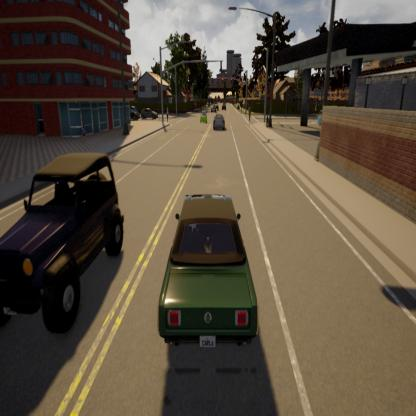Cars: (0, 128, 131, 350), (154, 150, 264, 394), (142, 98, 164, 127), (212, 107, 227, 138), (195, 106, 211, 135), (128, 96, 140, 124), (209, 93, 217, 112), (221, 94, 227, 115)
Pedestrian: (76, 118, 90, 142), (165, 100, 171, 126), (265, 112, 272, 134), (248, 103, 253, 125)
